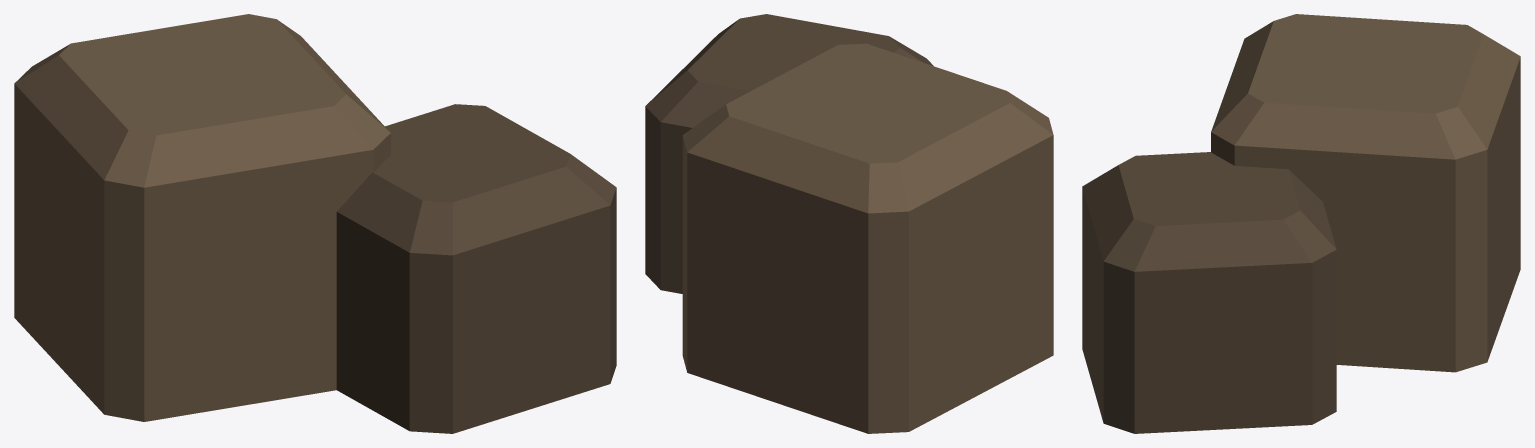
Rendered from cube_sculpture_dirt_b.obj.
The picture shows the model from 3 angles, left to right: view 1: azimuth 30°, elevation 25°; view 2: azimuth 150°, elevation 25°; view 3: azimuth 270°, elevation 25°; orthographic projection. The views are drawn at different scales.
Visible parts, largest first — view 1: cube_sculpture_dirt_b_0, cube_sculpture_dirt_b_2, cube_sculpture_dirt_b_1, cube_sculpture_dirt_b_3; view 2: cube_sculpture_dirt_b_0, cube_sculpture_dirt_b_1, cube_sculpture_dirt_b_3, cube_sculpture_dirt_b_2; view 3: cube_sculpture_dirt_b_0, cube_sculpture_dirt_b_2, cube_sculpture_dirt_b_1, cube_sculpture_dirt_b_3.
Boxes of the visible parts, x1=… form: cube_sculpture_dirt_b_0: x1=14, y1=84, x2=390, y2=421; cube_sculpture_dirt_b_2: x1=336, y1=188, x2=616, y2=433; cube_sculpture_dirt_b_1: x1=14, y1=14, x2=390, y2=187; cube_sculpture_dirt_b_3: x1=337, y1=104, x2=616, y2=255; cube_sculpture_dirt_b_0: x1=682, y1=135, x2=1053, y2=433; cube_sculpture_dirt_b_1: x1=682, y1=43, x2=1053, y2=213; cube_sculpture_dirt_b_3: x1=645, y1=14, x2=933, y2=127; cube_sculpture_dirt_b_2: x1=645, y1=106, x2=692, y2=293; cube_sculpture_dirt_b_0: x1=1211, y1=57, x2=1520, y2=372; cube_sculpture_dirt_b_2: x1=1082, y1=188, x2=1336, y2=433; cube_sculpture_dirt_b_1: x1=1211, y1=14, x2=1520, y2=159; cube_sculpture_dirt_b_3: x1=1082, y1=152, x2=1336, y2=271.
Bounding box in the file's own units: 0.8147 × 0.48 × 0.7847.
